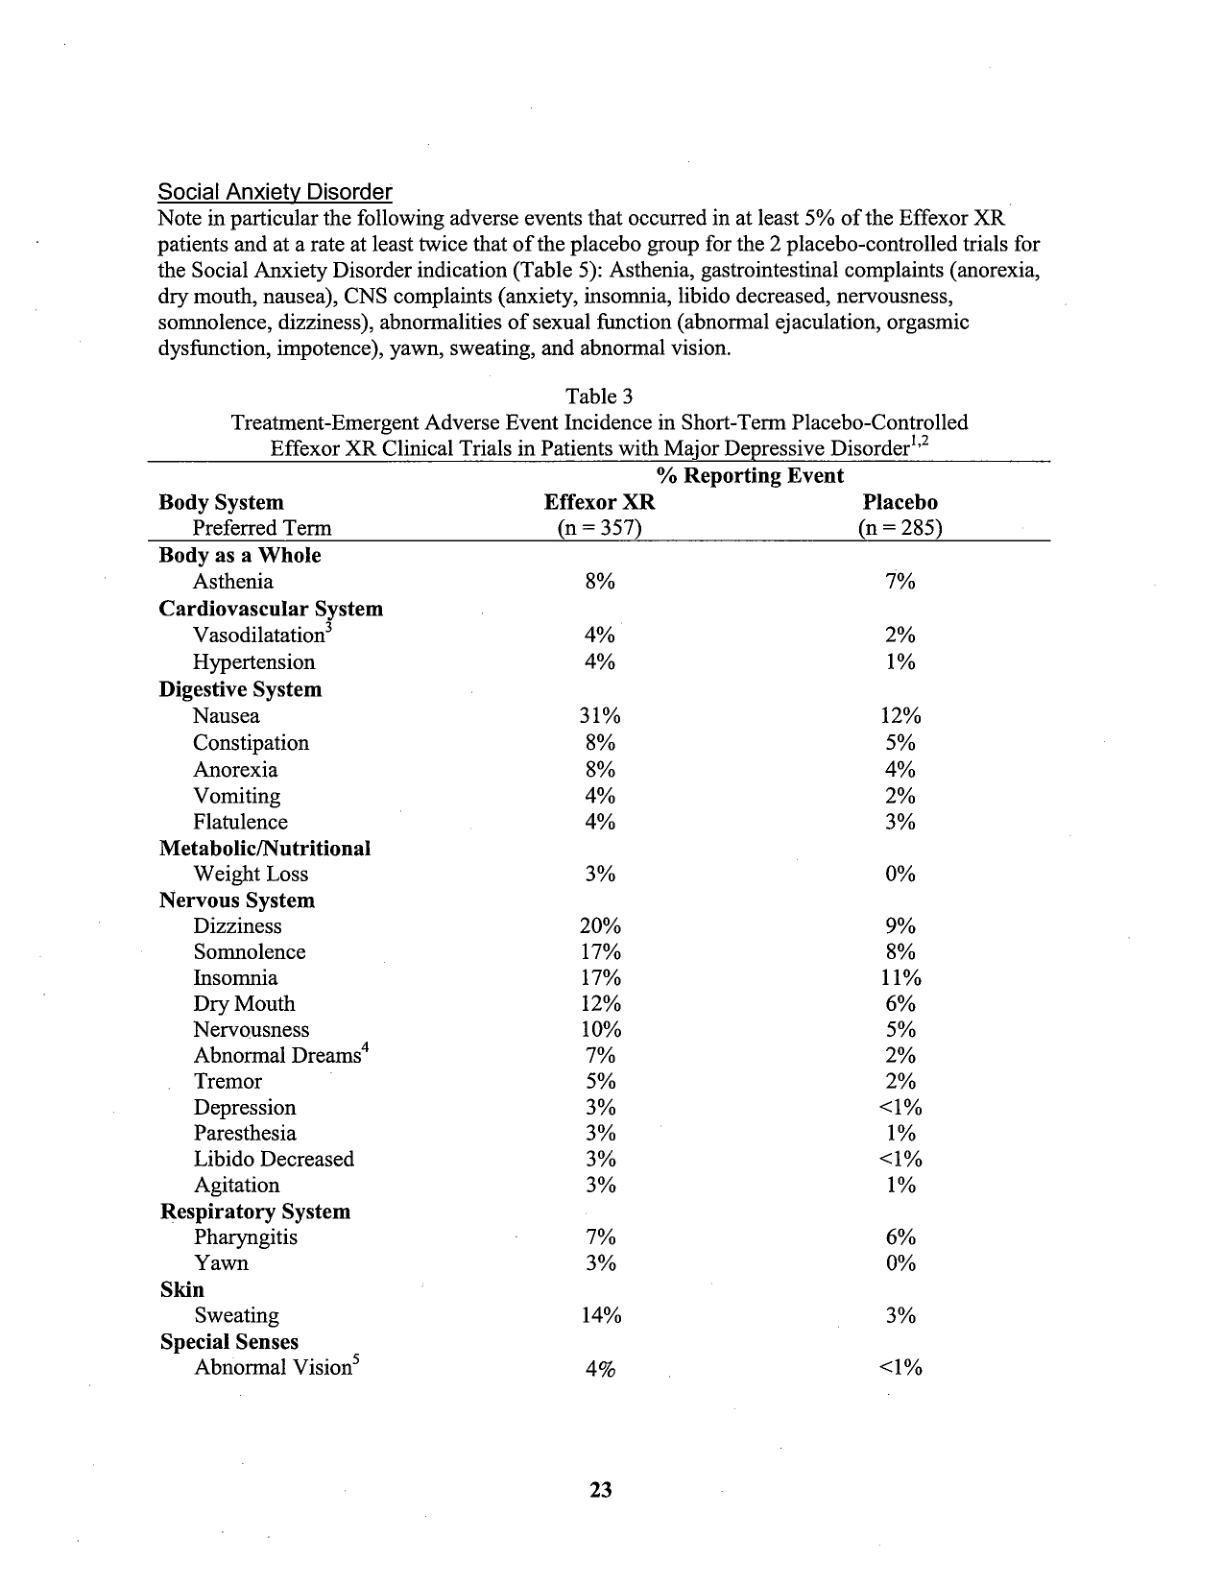partial_lined_merged_cells: (145, 459, 1053, 1390)
